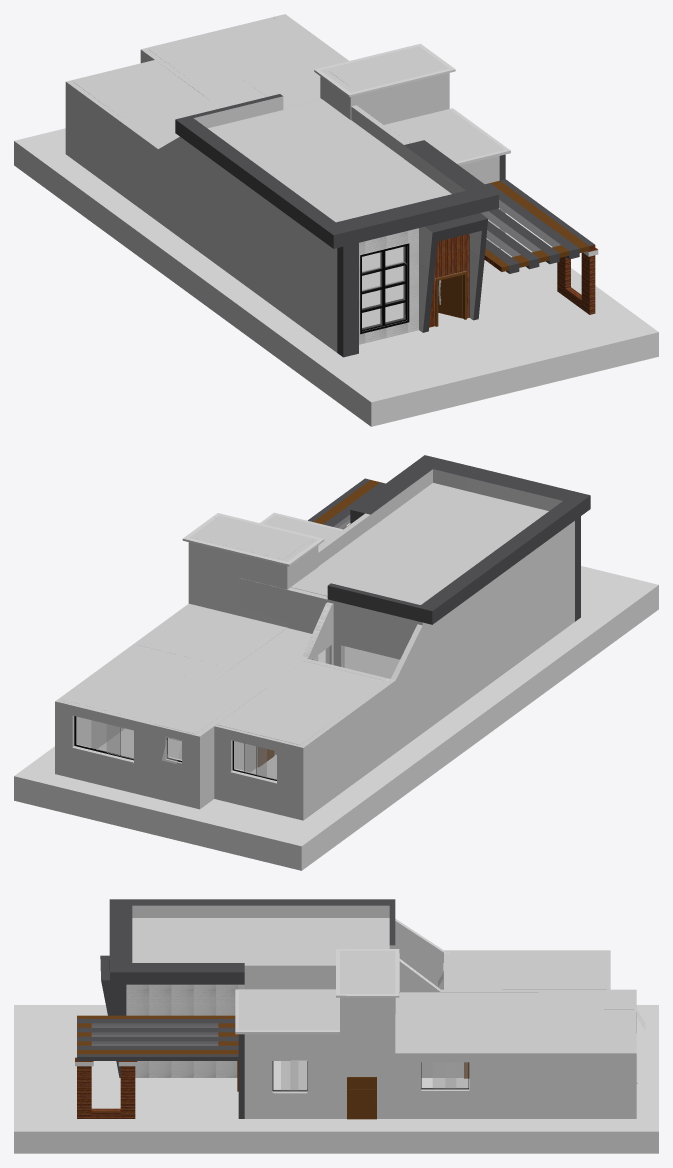
The model's file is modern_house.glb.
3 renders of one model, top to bottom at view 1: azimuth 30°, elevation 25°; view 2: azimuth 150°, elevation 25°; view 3: azimuth 270°, elevation 25°, orthographic. The views are drawn at different scales.
Visible parts, largest first — view 1: Casa, Cube, Plano.001, Casa.004, Cubo, Casa.003; view 2: Casa, Cube, Plano.001, Jnela.003, Casa.005, Jnela; view 3: Casa, Cube, Plano.001, Porta.001, Jnela.001, Jnela.002.
Part boxes in pixels (x1,y1,x2,y2): Casa: [65, 14, 510, 357]; Cube: [14, 128, 658, 426]; Plano.001: [481, 179, 598, 314]; Casa.004: [362, 265, 405, 329]; Cubo: [438, 275, 462, 318]; Casa.003: [362, 246, 405, 272]; Casa: [55, 455, 590, 820]; Cube: [14, 566, 658, 870]; Plano.001: [308, 478, 385, 529]; Jnela.003: [74, 716, 133, 760]; Casa.005: [342, 646, 399, 678]; Jnela: [232, 740, 276, 780]; Casa: [100, 899, 637, 1118]; Cube: [14, 1005, 658, 1153]; Plano.001: [75, 1015, 238, 1118]; Porta.001: [347, 1077, 376, 1119]; Jnela.001: [421, 1062, 468, 1089]; Jnela.002: [272, 1061, 307, 1091].
Size of the model in its own units: 13.25 by 7.17 by 28.51.
Materials: 9 (3 with a texture image).
